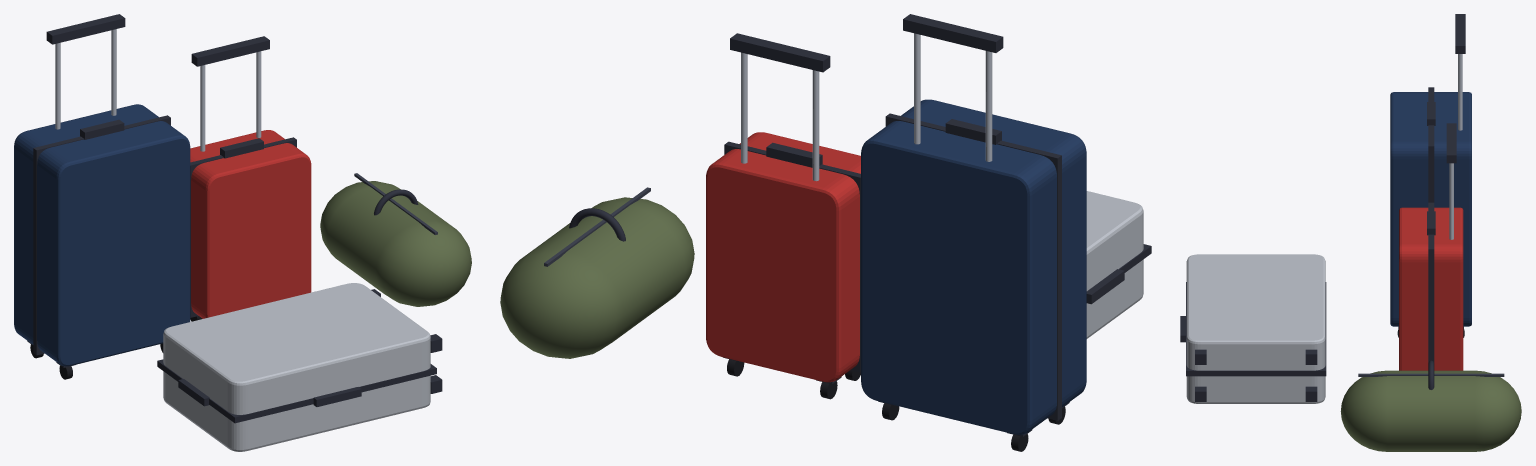
File: air-020.glb
The picture shows the model from 3 angles, left to right: view 1: azimuth 30°, elevation 25°; view 2: azimuth 150°, elevation 25°; view 3: azimuth 270°, elevation 25°; orthographic projection. The views are drawn at different scales.
Visible parts, largest first — view 1: shell_navy, shell_silver, shell_red, duffel_fabric, plastic_dark, steel; view 2: shell_navy, shell_red, duffel_fabric, plastic_dark, shell_silver, steel, rubber; view 3: shell_silver, duffel_fabric, shell_navy, shell_red, plastic_dark, steel, dark_steel.
Boxes of the visible parts, bbox=[...] form: shell_navy: bbox=[14, 104, 190, 366]; shell_silver: bbox=[163, 283, 430, 451]; shell_red: bbox=[190, 130, 311, 318]; duffel_fabric: bbox=[320, 181, 471, 306]; plastic_dark: bbox=[27, 14, 442, 423]; steel: bbox=[55, 29, 261, 151]; shell_navy: bbox=[861, 99, 1086, 434]; shell_red: bbox=[706, 132, 860, 382]; duffel_fabric: bbox=[500, 197, 694, 358]; plastic_dark: bbox=[569, 14, 1151, 436]; shell_silver: bbox=[1086, 191, 1143, 338]; steel: bbox=[741, 33, 992, 181]; rubber: bbox=[727, 359, 1065, 451]; shell_silver: bbox=[1186, 254, 1325, 403]; duffel_fabric: bbox=[1340, 370, 1521, 451]; shell_navy: bbox=[1390, 92, 1471, 326]; shell_red: bbox=[1399, 207, 1463, 370]; plastic_dark: bbox=[1180, 14, 1465, 401]; steel: bbox=[1449, 54, 1462, 239]; dark_steel: bbox=[1358, 373, 1504, 376].
Bounding box in the file's own units: 1.45 × 1.09 × 1.17.
